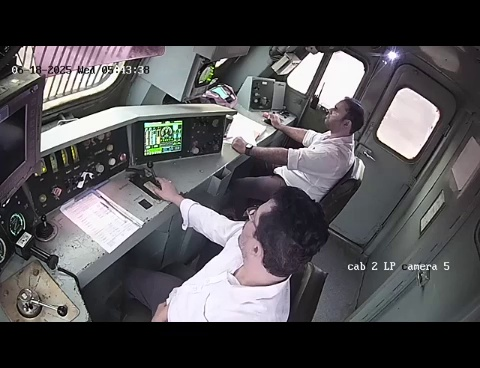brake_released: (0, 254, 106, 322)
horn_inactive: (27, 207, 67, 247)
